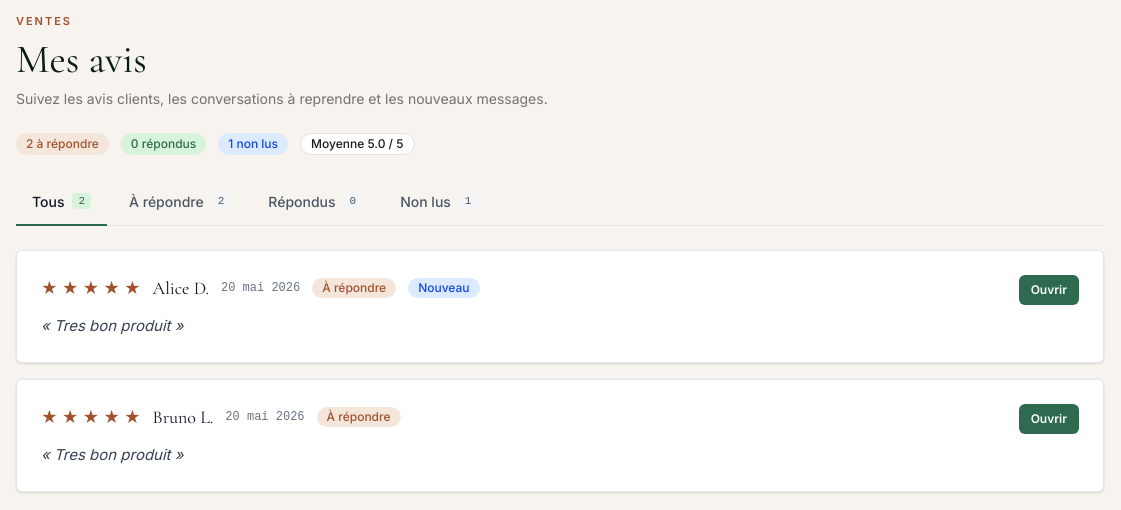
Test: AvisClient › filtre la vue Non lus sans confondre avec les avis lus a repondre
The image size is (1121, 510).
Click the button "Non lus 1" at [439, 202], box [384, 178, 494, 226]
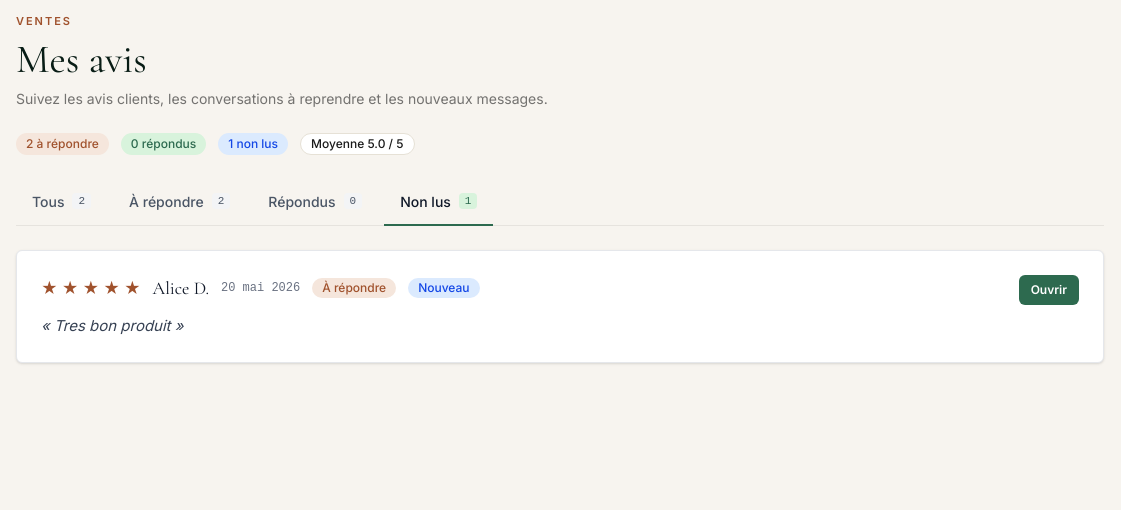
Expected: the text "Alice D." is shown, [153, 274, 209, 302]
Expected: the text "Bruno L." is gone
